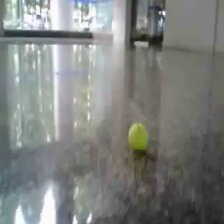tennis: (128, 123, 149, 151)
